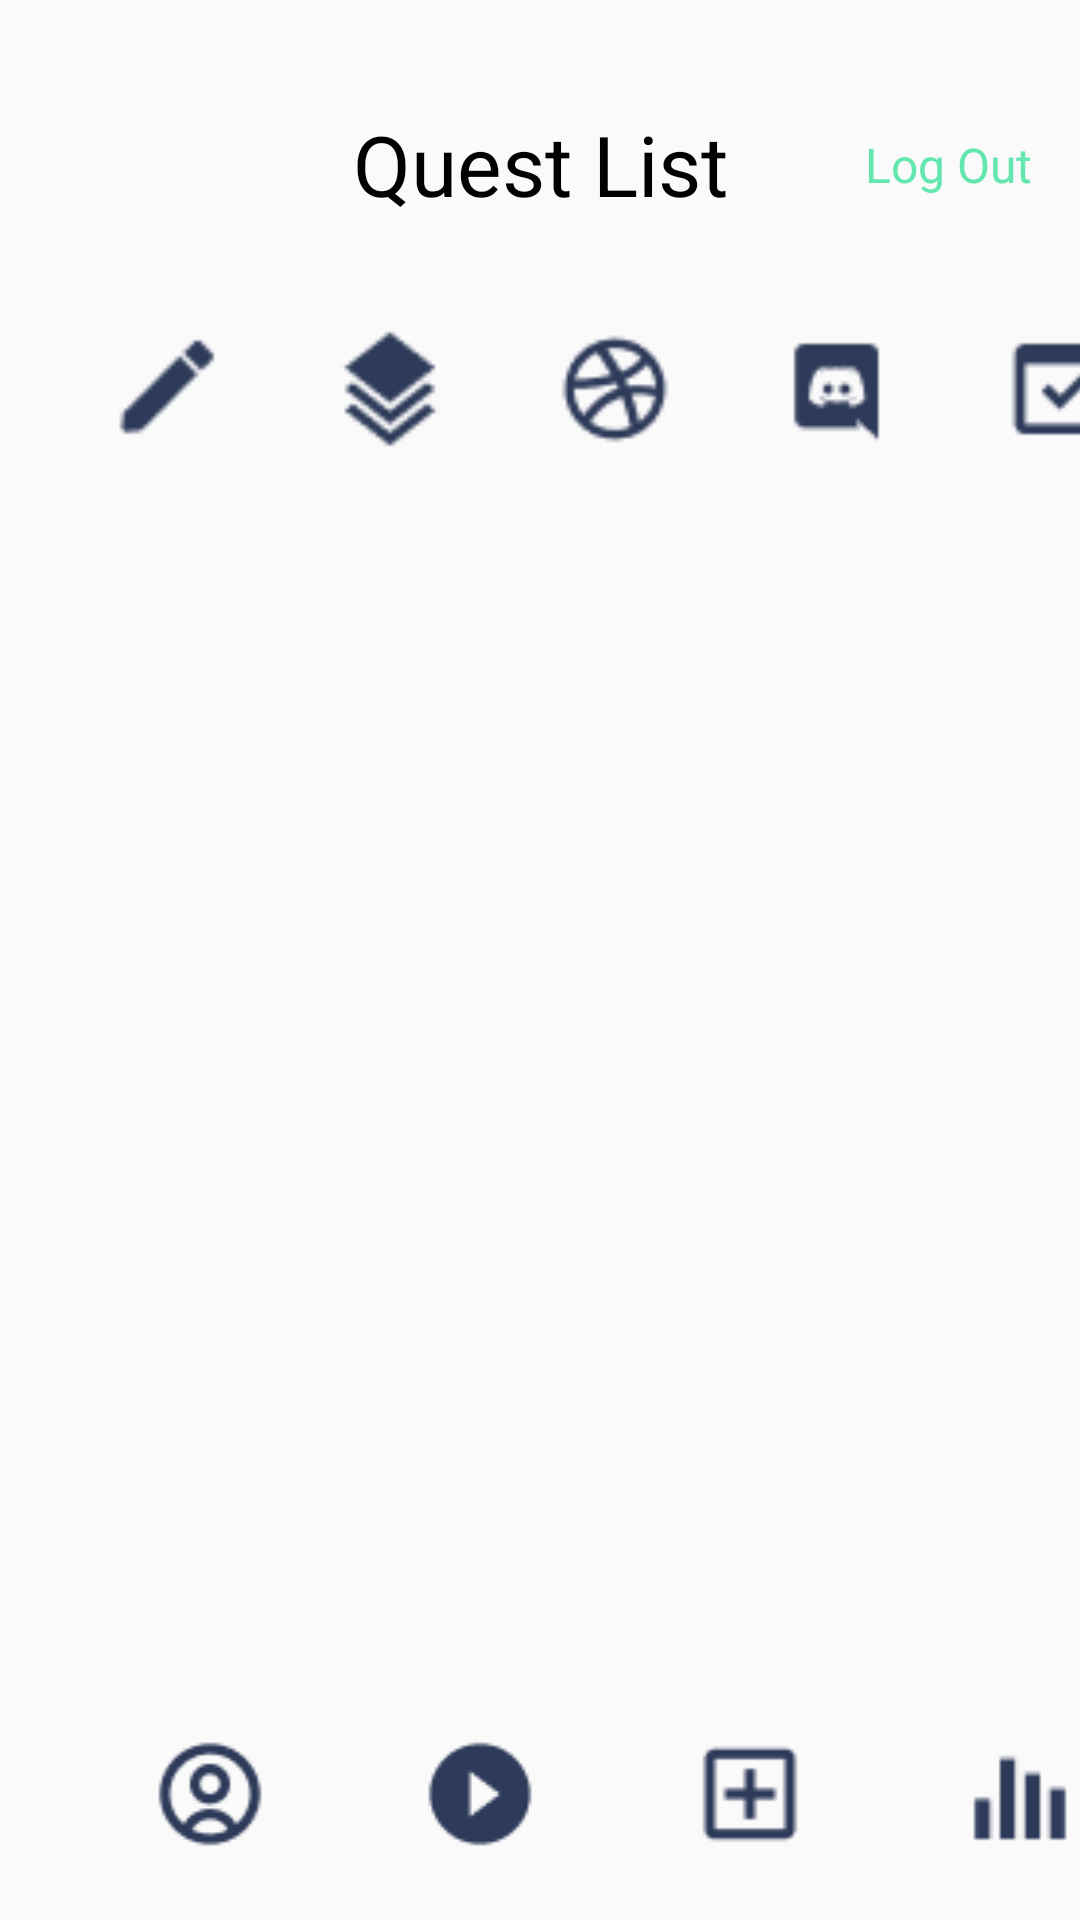

Where icons sit on this 1080×1920 app screen, as (x1, y1, x2, y2):
bar chart: (973, 1756, 1067, 1840)
layers: (344, 332, 436, 446)
play: (428, 1742, 532, 1846)
plus square: (702, 1747, 798, 1841)
